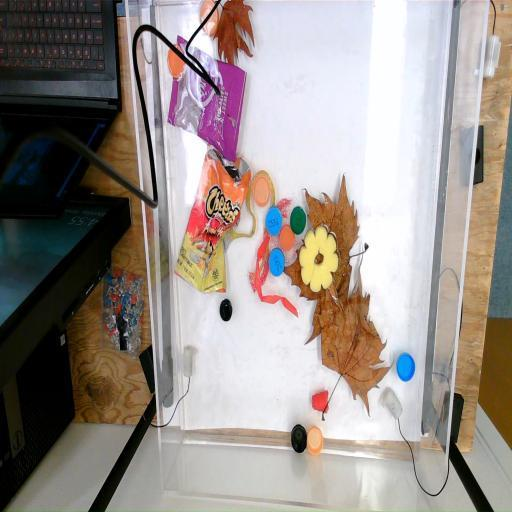Bottle Cap: (199, 0, 220, 42), (168, 42, 188, 82), (395, 350, 418, 384), (288, 421, 308, 459), (288, 205, 310, 237), (266, 205, 284, 241), (254, 174, 272, 206), (267, 247, 285, 278), (306, 428, 325, 456), (218, 298, 236, 324), (278, 226, 294, 250)
Cone Cap: (310, 390, 332, 412)
Leaf: (284, 170, 374, 320), (314, 286, 400, 438), (212, 0, 260, 68)
Netting: (244, 194, 294, 294)
Plastic Bag: (164, 30, 253, 166), (172, 147, 253, 294)
Plastic Strand: (253, 229, 301, 319), (228, 170, 280, 251)
Sponge: (298, 224, 340, 295)
